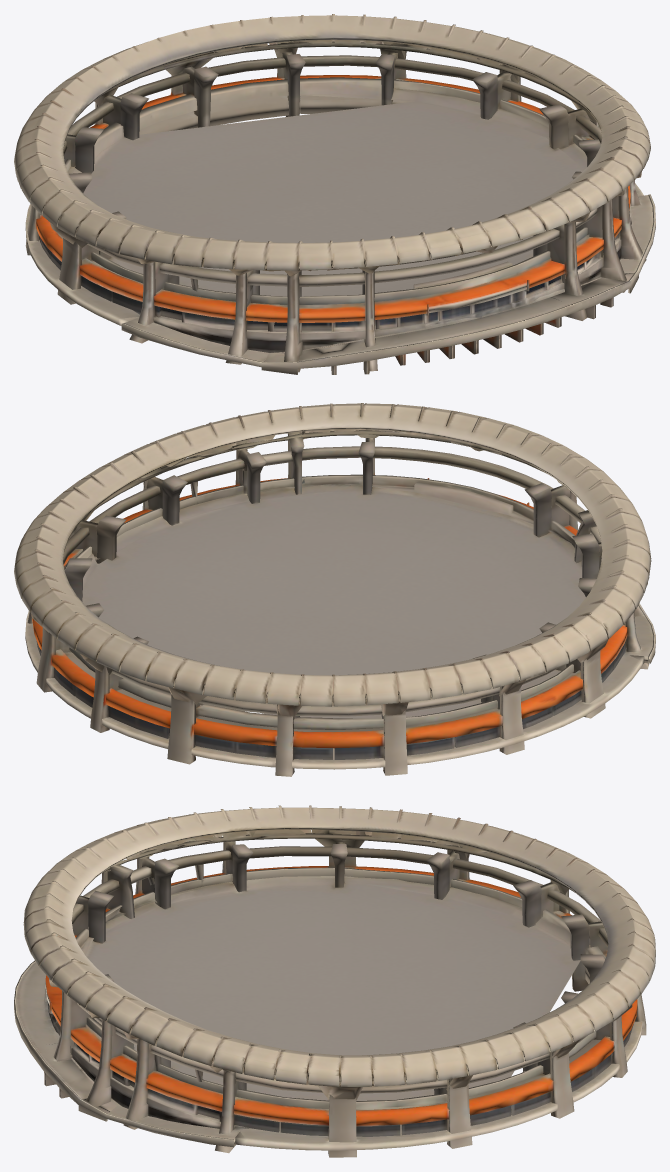
File: modern stadium 3d model.fbx
3 views of the same model, one above another, from view 1: azimuth 30°, elevation 25°; view 2: azimuth 150°, elevation 25°; view 3: azimuth 270°, elevation 25° (orthographic).
Parts seen in each view (by area): view 1: tripo_node_aaf1b8dd; view 2: tripo_node_aaf1b8dd; view 3: tripo_node_aaf1b8dd.
Boxes of the visible parts, x1,y1,x2,y2 form: tripo_node_aaf1b8dd: (14,14,655,374); tripo_node_aaf1b8dd: (14,403,655,776); tripo_node_aaf1b8dd: (14,805,655,1157).
Bounding box in the file's own units: 0.9849 × 0.2119 × 0.9995.
